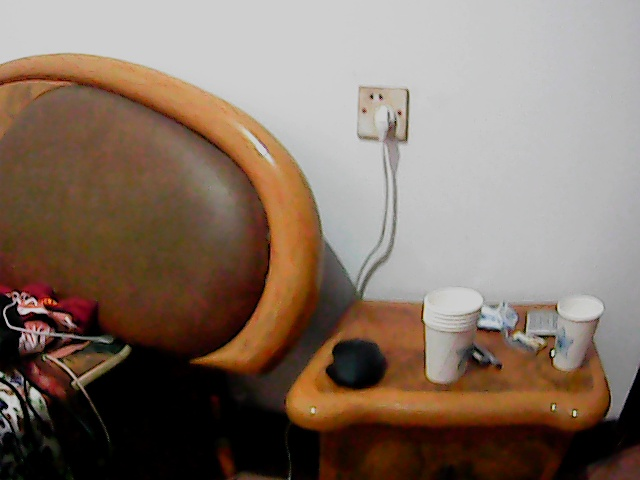cup: (426, 284, 479, 387)
mouse: (321, 338, 385, 388)
